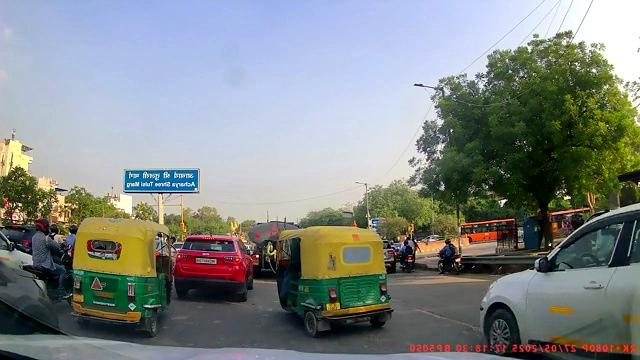motorcycle_with_helmet: (23, 217, 70, 303), (437, 238, 461, 274)
